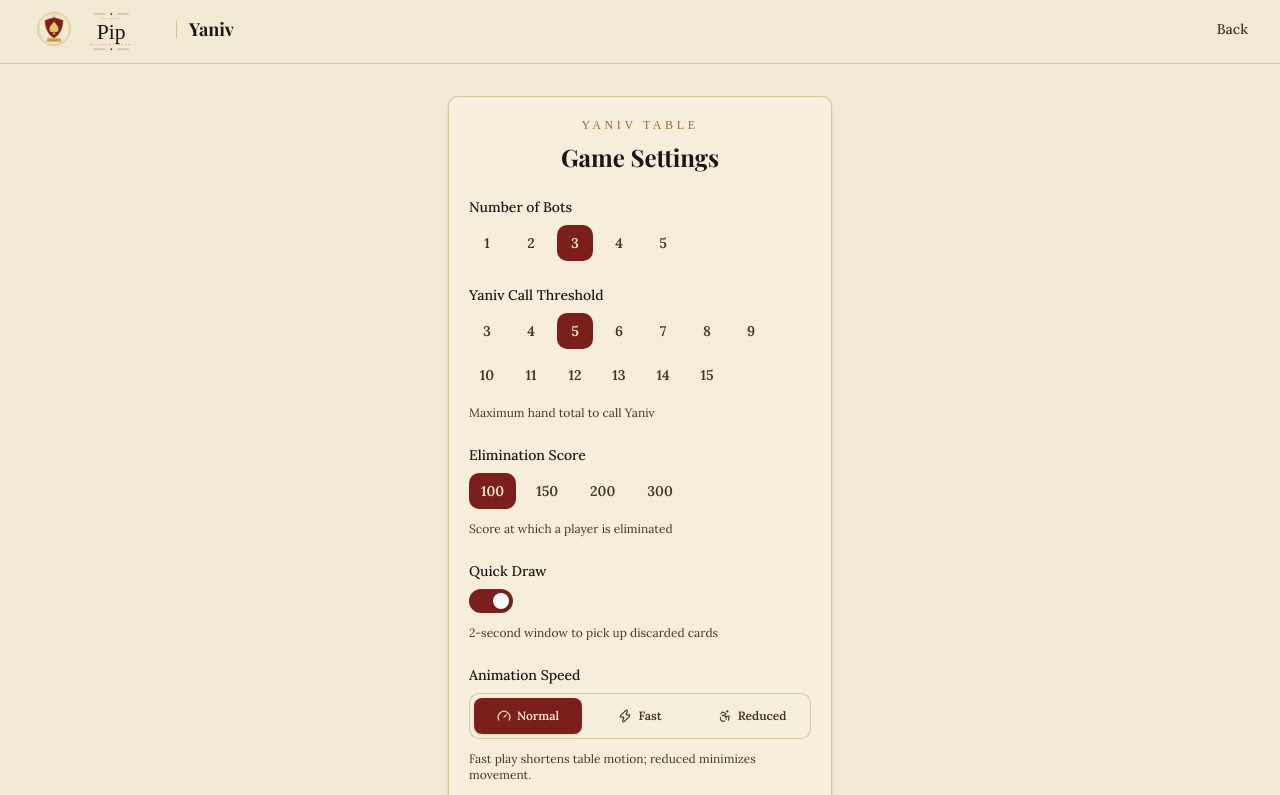
Yaniv page › starts from the settings saved last time, and saves the ones you start with
This screenshot has width=1280, height=795.
What coordinates should you click on to do the following:
click the button "150"
I would click on:
 (547, 491)
Its box is [524, 473, 570, 509].
(page scrolled)
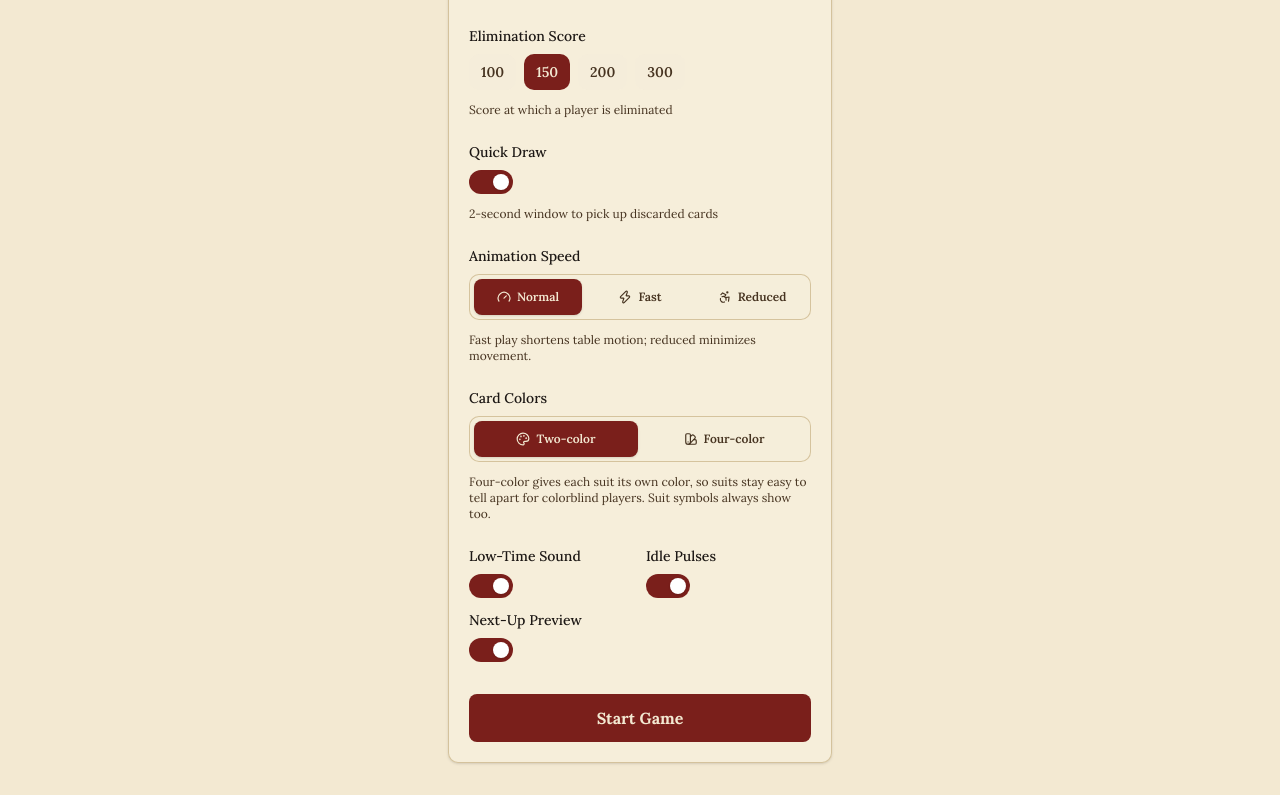
What coordinates should you click on to do the following:
click the button "Start Game"
I would click on:
 (640, 718)
Its box is [469, 694, 811, 742].
(page scrolled)
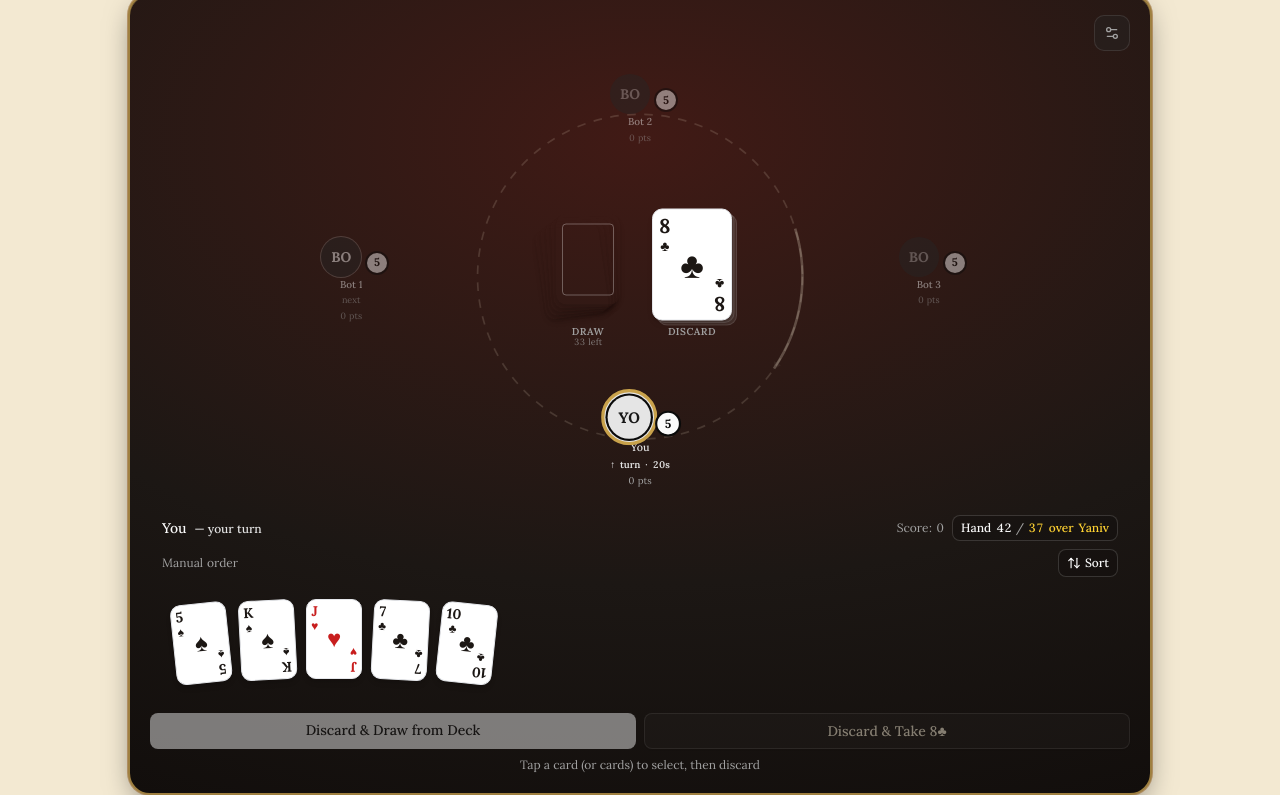
Now the text "Bot 3" is shown, box [917, 279, 941, 291]
